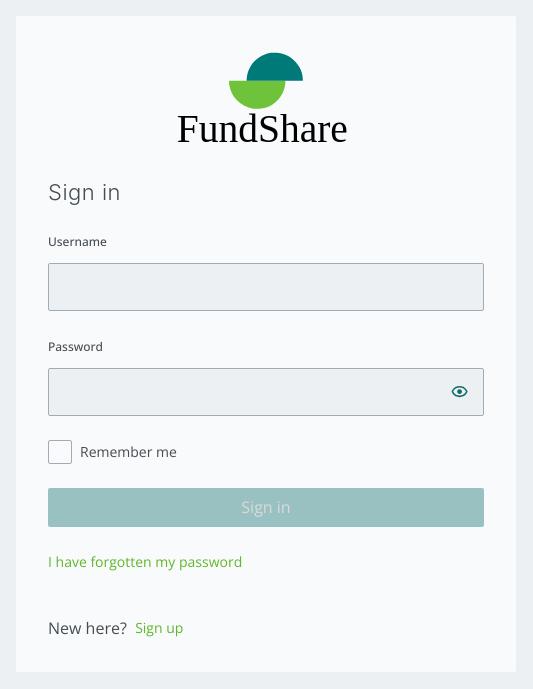
authenticate › login_disabled_button
Expected: the submit button is disabled, [48,488,484,527]
Type "e2e" into the field with test id "username_input". click: (266,287)
box: [48,263,484,311]
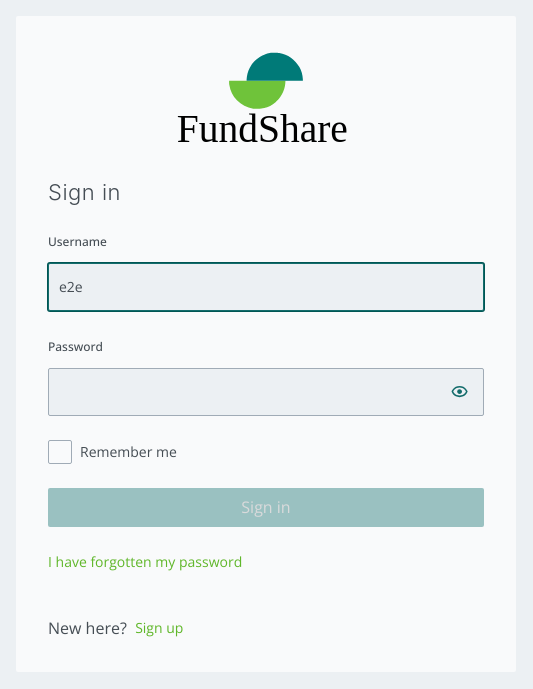
Expected: the submit button is disabled, [48,488,484,527]
Type "1234" into the password field with test id "password_input". click: (266,392)
box: [48,368,484,416]
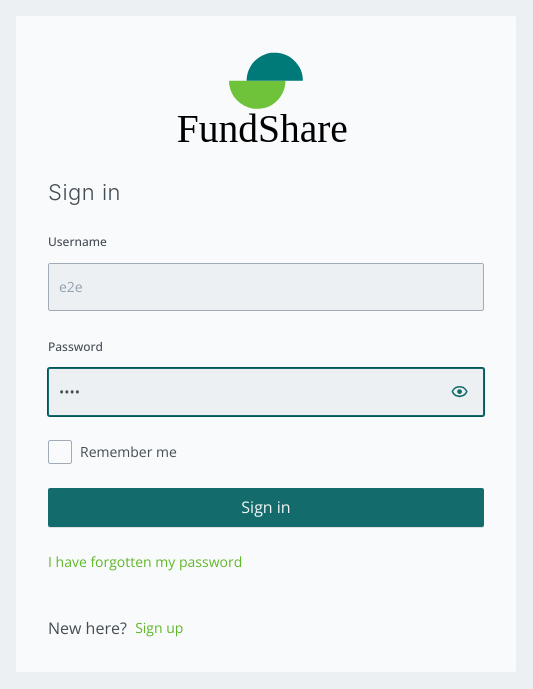
Expected: the submit button is enabled, [48,488,484,527]
